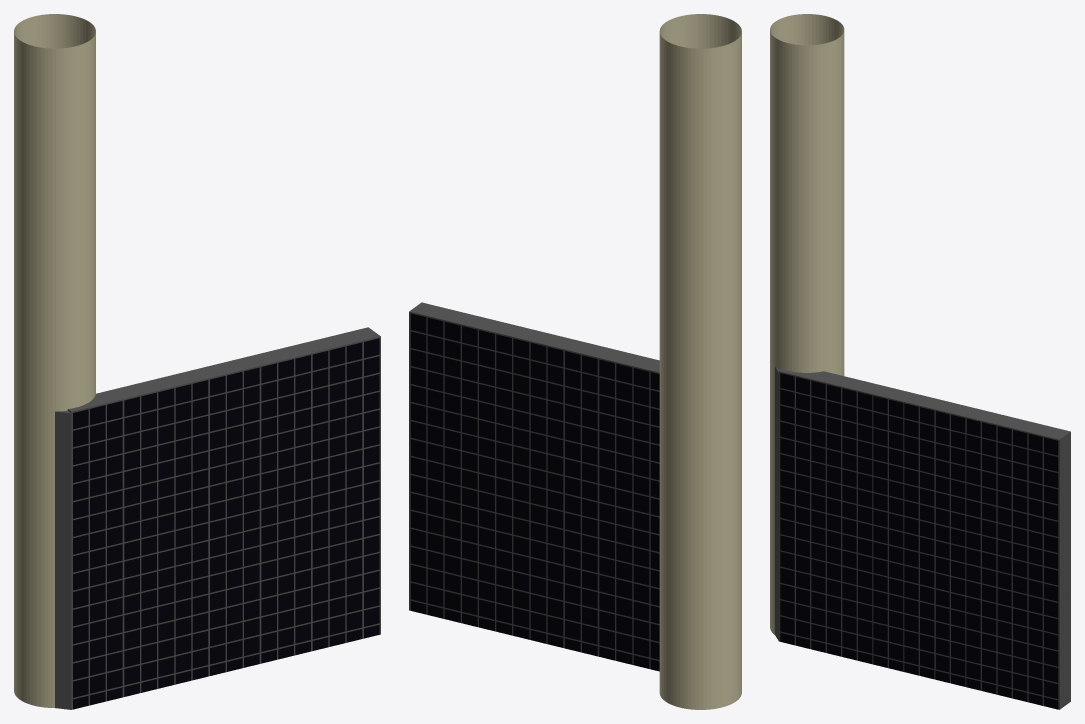
File: ParedeEntrada1.obj
3 renders of one model, left to right at view 1: azimuth 30°, elevation 25°; view 2: azimuth 150°, elevation 25°; view 3: azimuth 330°, elevation 25°, orthographic. The views are drawn at different scales.
Parts seen in each view (by area): view 1: Mesh.191_Mesh.368_Mesh.883_Mes, Mesh.176_Mesh.092_Mesh.224_Mes, Mesh.048_Mesh.293_Mesh.022_Mes, Mesh.096_Mesh.242_Mesh.208_Mes, Mesh.133_Mesh.241_Mesh.047_Mes, Mesh.299_Mesh.325_Mesh.180_Mes, Mesh.293_Mesh.255_Mesh.154_Mes, Mesh.139_Mesh.095_Mesh.248_Mes, Mesh.280_Mesh.257_Mesh.309_Mes, Mesh.304_Mesh.060_Mesh.277_Mes, Mesh.326_Mesh.180_Mesh.027_Mes, Mesh.018_Mesh.282_Mesh.145_Mes (+24 smaller); view 2: Mesh.191_Mesh.368_Mesh.883_Mes, Mesh.048_Mesh.293_Mesh.022_Mes, Mesh.355_Mesh.252_Mesh.040_Mes, Mesh.313_Mesh.039_Mesh.017_Mes, Mesh.275_Mesh.072_Mesh.259_Mes, Mesh.135_Mesh.340_Mesh.207_Mes, Mesh.100_Mesh.130_Mesh.029_Mes, Mesh.272_Mesh.019_Mesh.121_Mes, Mesh.133_Mesh.241_Mesh.047_Mes, Mesh.366_Mesh.230_Mesh.049_Mes, Mesh.266_Mesh.120_Mesh.015_Mes, Mesh.261_Mesh.105_Mesh.185_Mes (+19 smaller); view 3: Mesh.191_Mesh.368_Mesh.883_Mes, Mesh.048_Mesh.293_Mesh.022_Mes, Mesh.275_Mesh.072_Mesh.259_Mes, Mesh.176_Mesh.092_Mesh.224_Mes, Mesh.218_Mesh.107_Mesh.044_Mes, Mesh.299_Mesh.325_Mesh.180_Mes, Mesh.293_Mesh.255_Mesh.154_Mes, Mesh.139_Mesh.095_Mesh.248_Mes, Mesh.018_Mesh.282_Mesh.145_Mes, Mesh.032_Mesh.063_Mesh.156_Mes, Mesh.280_Mesh.257_Mesh.309_Mes, Mesh.067_Mesh.115_Mesh.134_Mes (+25 smaller).
Boxes of the visible parts, left/top/right/bottom form: Mesh.191_Mesh.368_Mesh.883_Mes: left=14, top=14, right=95, bottom=707; Mesh.176_Mesh.092_Mesh.224_Mes: left=55, top=410, right=72, bottom=709; Mesh.048_Mesh.293_Mesh.022_Mes: left=67, top=327, right=380, bottom=413; Mesh.096_Mesh.242_Mesh.208_Mes: left=122, top=400, right=124, bottom=697; Mesh.133_Mesh.241_Mesh.047_Mes: left=259, top=367, right=261, bottom=663; Mesh.299_Mesh.325_Mesh.180_Mes: left=72, top=426, right=380, bottom=502; Mesh.293_Mesh.255_Mesh.154_Mes: left=71, top=408, right=380, bottom=484; Mesh.139_Mesh.095_Mesh.248_Mes: left=72, top=372, right=380, bottom=448; Mesh.280_Mesh.257_Mesh.309_Mes: left=71, top=444, right=380, bottom=520; Mesh.304_Mesh.060_Mesh.277_Mes: left=73, top=515, right=380, bottom=591; Mesh.326_Mesh.180_Mesh.027_Mes: left=73, top=533, right=380, bottom=609; Mesh.018_Mesh.282_Mesh.145_Mes: left=73, top=390, right=380, bottom=466; Mesh.191_Mesh.368_Mesh.883_Mes: left=659, top=14, right=741, bottom=709; Mesh.048_Mesh.293_Mesh.022_Mes: left=409, top=302, right=659, bottom=373; Mesh.355_Mesh.252_Mesh.040_Mes: left=597, top=359, right=599, bottom=656; Mesh.313_Mesh.039_Mesh.017_Mes: left=426, top=317, right=427, bottom=614; Mesh.275_Mesh.072_Mesh.259_Mes: left=409, top=313, right=410, bottom=610; Mesh.135_Mesh.340_Mesh.207_Mes: left=495, top=334, right=496, bottom=631; Mesh.100_Mesh.130_Mesh.029_Mes: left=443, top=321, right=444, bottom=618; Mesh.272_Mesh.019_Mesh.121_Mes: left=512, top=338, right=513, bottom=635; Mesh.133_Mesh.241_Mesh.047_Mes: left=529, top=342, right=530, bottom=639; Mesh.366_Mesh.230_Mesh.049_Mes: left=649, top=371, right=650, bottom=669; Mesh.266_Mesh.120_Mesh.015_Mes: left=632, top=367, right=633, bottom=664; Mesh.261_Mesh.105_Mesh.185_Mes: left=615, top=363, right=616, bottom=660; Mesh.191_Mesh.368_Mesh.883_Mes: left=770, top=14, right=844, bottom=634; Mesh.048_Mesh.293_Mesh.022_Mes: left=779, top=369, right=1070, bottom=440; Mesh.275_Mesh.072_Mesh.259_Mes: left=1058, top=433, right=1070, bottom=709; Mesh.176_Mesh.092_Mesh.224_Mes: left=775, top=366, right=780, bottom=641; Mesh.218_Mesh.107_Mesh.044_Mes: left=779, top=388, right=1070, bottom=457; Mesh.299_Mesh.325_Mesh.180_Mes: left=779, top=453, right=1070, bottom=521; Mesh.293_Mesh.255_Mesh.154_Mes: left=779, top=436, right=1070, bottom=505; Mesh.139_Mesh.095_Mesh.248_Mes: left=779, top=404, right=1070, bottom=473; Mesh.018_Mesh.282_Mesh.145_Mes: left=779, top=420, right=1070, bottom=489; Mesh.032_Mesh.063_Mesh.156_Mes: left=779, top=501, right=1070, bottom=570; Mesh.280_Mesh.257_Mesh.309_Mes: left=779, top=469, right=1070, bottom=538; Mesh.067_Mesh.115_Mesh.134_Mes: left=780, top=518, right=1070, bottom=586.
Size of the model in its own units: 3.95 by 7.37 by 0.8966.
